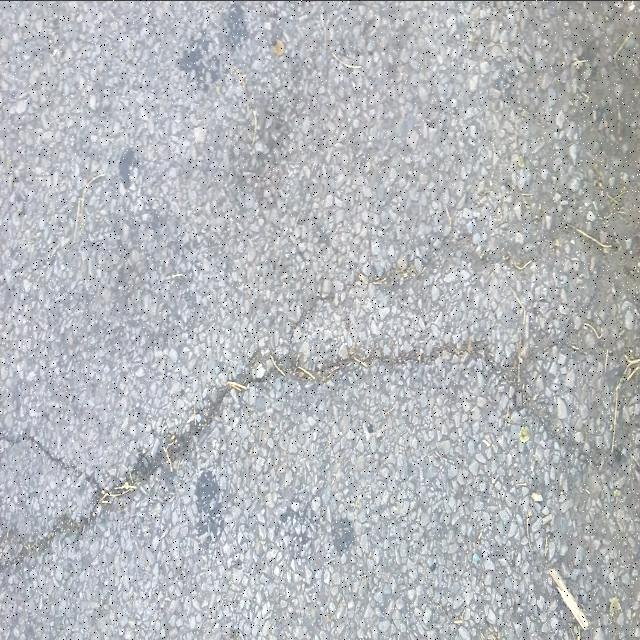Crack: (0, 326, 633, 568), (294, 176, 590, 331)
